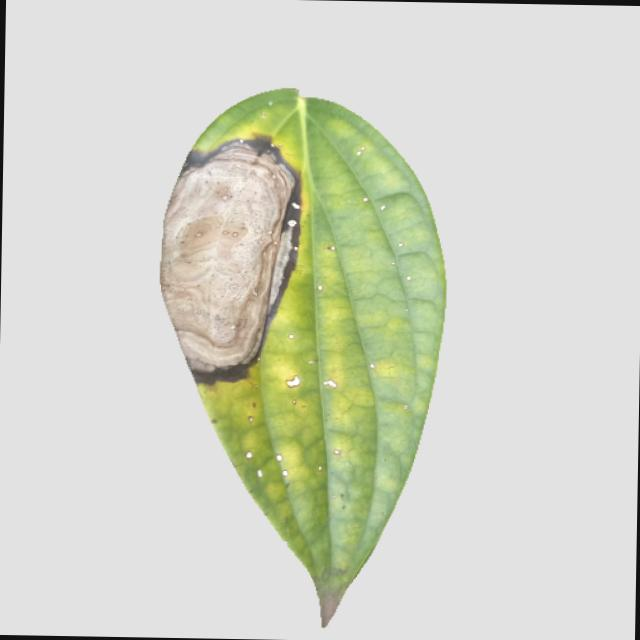leaf-blight: (132, 89, 461, 628)
